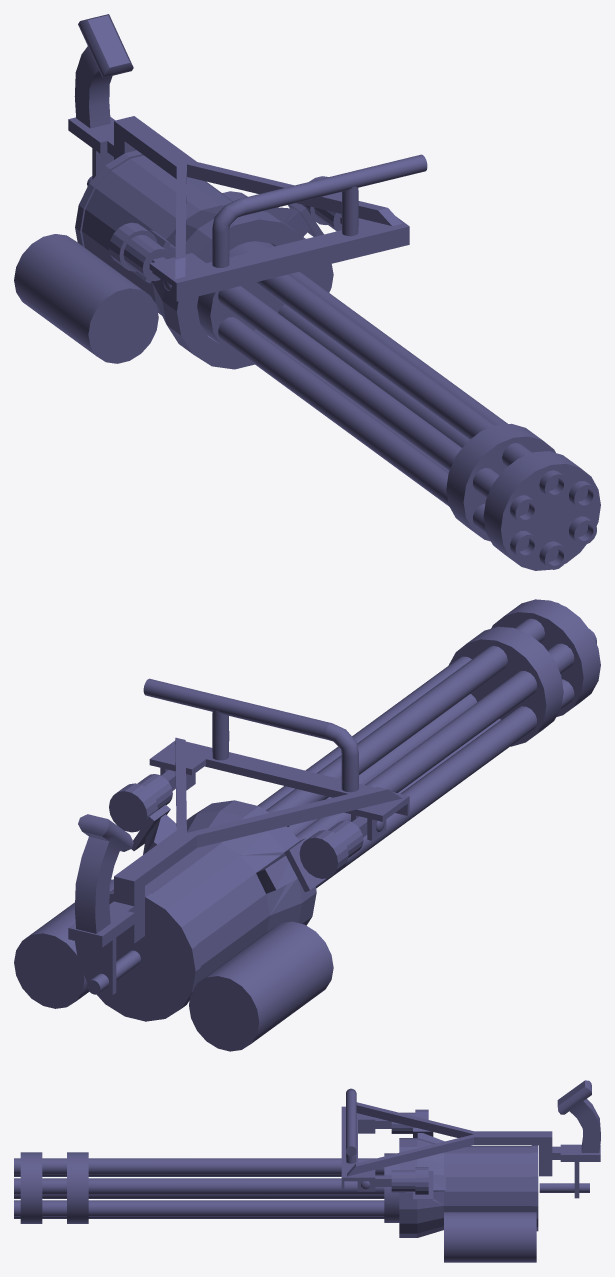
File: minigan1.fbx
The picture shows the model from 3 angles, top to bottom: view 1: azimuth 30°, elevation 25°; view 2: azimuth 150°, elevation 25°; view 3: azimuth 270°, elevation 25°; orthographic projection. The views are drawn at different scales.
Parts seen in each view (by area): view 1: hanten_pCylinder7, hanten1_group4_pCube1, pCylinder14, pPipe3, pPipe4, pPipe8, hanten_group4_pCube2, pCylinder12, hanten_group4_pasted__pCylinder5, pasted__pCylinder12, pPipe6, pPipe7 (+3 smaller); view 2: hanten_pCylinder7, hanten1_group4_pCube1, pCylinder14, pPipe8, pPipe3, hanten_group4_pasted__pCylinder5, hanten_group4_pCube2, pPipe4, pCylinder8, pasted__pCylinder12, pCylinder12, pCylinder13 (+5 smaller); view 3: hanten_pCylinder7, hanten1_group4_pCube1, pPipe6, pPipe7, pPipe8, pCylinder8, pCylinder12, pasted__pCylinder12, hanten_group4_pCube2, pPipe4, pCylinder9, pPipe3 (+5 smaller).
Boxes of the visible parts, <box> form: hanten_pCylinder7: <box>75,150,316,369</box>; hanten1_group4_pCube1: <box>68,14,401,278</box>; pCylinder14: <box>14,234,158,363</box>; pPipe3: <box>218,286,538,523</box>; pPipe4: <box>218,317,538,559</box>; pPipe8: <box>255,274,567,498</box>; hanten_group4_pCube2: <box>149,216,409,301</box>; pCylinder12: <box>483,451,600,570</box>; hanten_group4_pasted__pCylinder5: <box>212,154,427,267</box>; pasted__pCylinder12: <box>446,423,555,541</box>; pPipe6: <box>278,304,596,544</box>; pPipe7: <box>289,271,596,509</box>; hanten_pCylinder7: <box>75,800,316,1021</box>; hanten1_group4_pCube1: <box>68,737,401,994</box>; pCylinder14: <box>189,921,333,1051</box>; pPipe8: <box>266,602,560,826</box>; pPipe3: <box>295,629,596,840</box>; hanten_group4_pasted__pCylinder5: <box>143,678,358,792</box>; hanten_group4_pCube2: <box>149,740,409,840</box>; pPipe4: <box>316,679,574,888</box>; pCylinder8: <box>14,879,113,1008</box>; pasted__pCylinder12: <box>448,626,563,746</box>; pCylinder12: <box>491,599,600,716</box>; pCylinder13: <box>299,820,363,878</box>; hanten_pCylinder7: <box>399,1133,538,1237</box>; hanten1_group4_pCube1: <box>347,1080,600,1198</box>; pPipe6: <box>14,1200,384,1216</box>; pPipe7: <box>14,1178,384,1194</box>; pPipe8: <box>14,1158,384,1174</box>; pCylinder8: <box>444,1212,536,1262</box>; pCylinder12: <box>20,1152,42,1223</box>; pasted__pCylinder12: <box>67,1152,88,1223</box>; hanten_group4_pCube2: <box>341,1106,375,1191</box>; pPipe4: <box>14,1195,384,1198</box>; pCylinder9: <box>391,1167,428,1194</box>; pPipe3: <box>14,1174,383,1176</box>.
Bounding box in the file's own units: 6.6 × 5.83 × 20.71.
